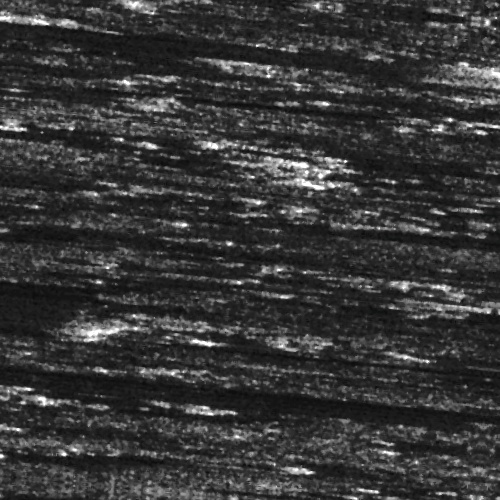object: (149, 142, 368, 169), (38, 329, 121, 354), (153, 61, 288, 74), (0, 411, 83, 422), (0, 34, 66, 47), (71, 5, 154, 14), (449, 49, 500, 58), (385, 487, 458, 492), (0, 248, 45, 255), (411, 280, 432, 289), (0, 474, 30, 479), (64, 348, 95, 351)
shadow: (0, 142, 258, 169), (267, 213, 500, 232), (56, 61, 220, 74), (0, 329, 79, 354), (397, 162, 500, 173), (27, 5, 112, 14), (270, 487, 422, 492), (399, 49, 476, 58), (346, 280, 422, 289), (0, 348, 79, 351), (0, 411, 20, 422)
